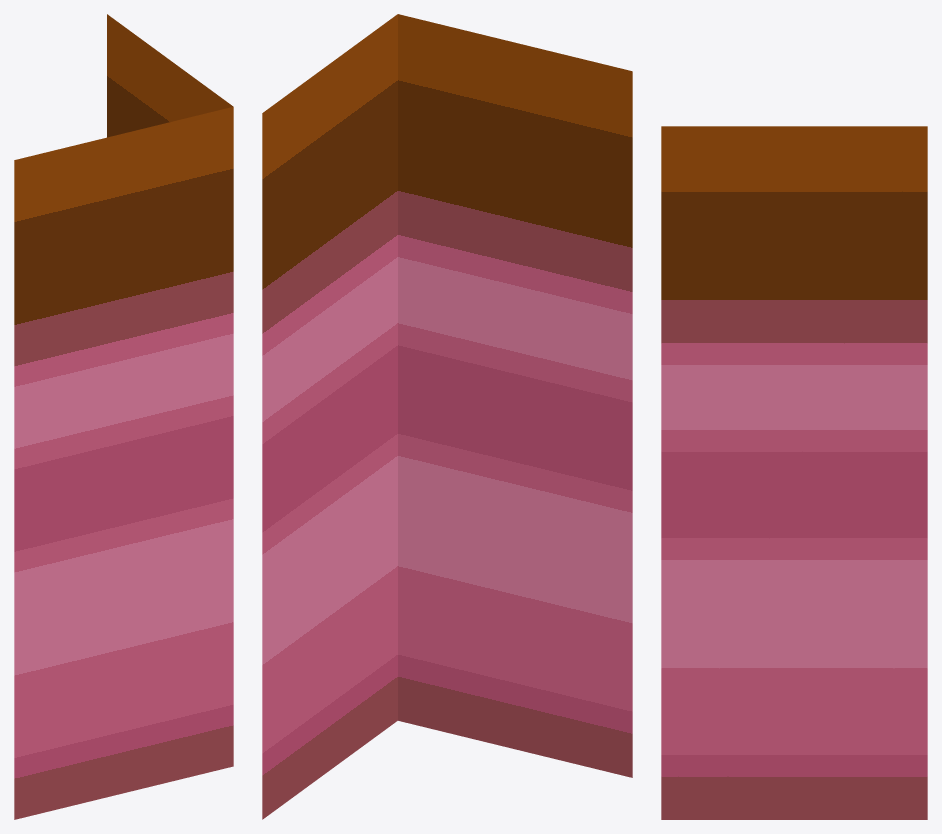
The picture shows the model from 3 angles, left to right: view 1: azimuth 30°, elevation 25°; view 2: azimuth 150°, elevation 25°; view 3: azimuth 270°, elevation 25°; orthographic projection. The views are drawn at different scales.
Bounding box in the file's own units: 0.5 × 1.44 × 0.5.
Materials: 1 (1 with a texture image).
